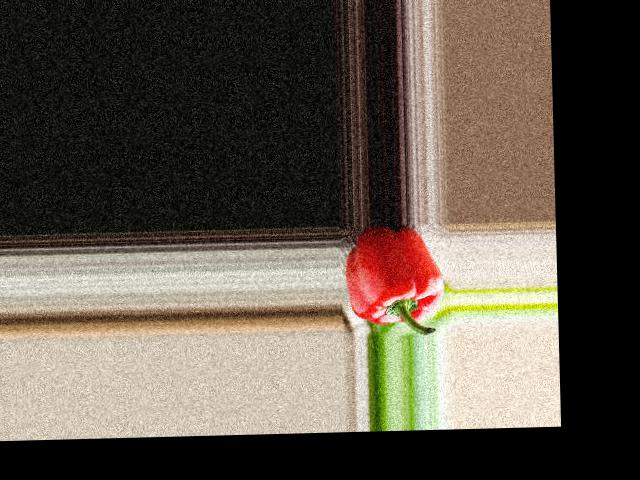bell_pepper: (346, 222, 447, 334)
